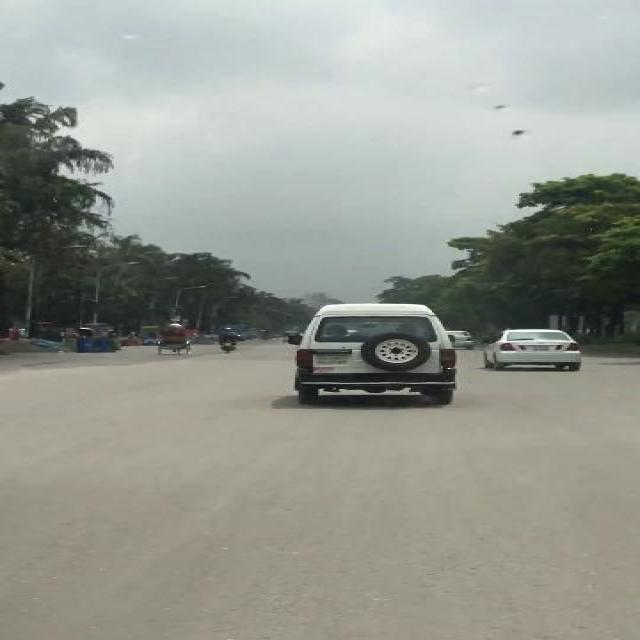car: (477, 326, 583, 372), (450, 330, 474, 350)
motorbike: (213, 326, 242, 354)
rickshaw: (152, 322, 193, 356)
suv: (285, 302, 458, 406)
